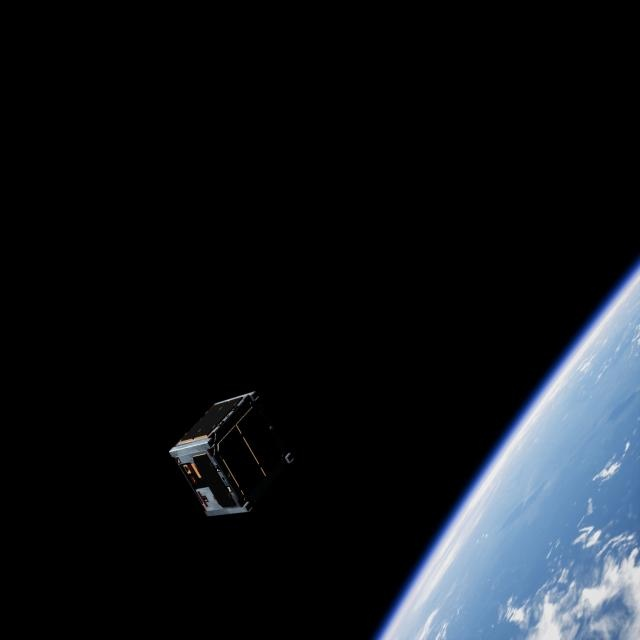satellite: (170, 384, 312, 525)
